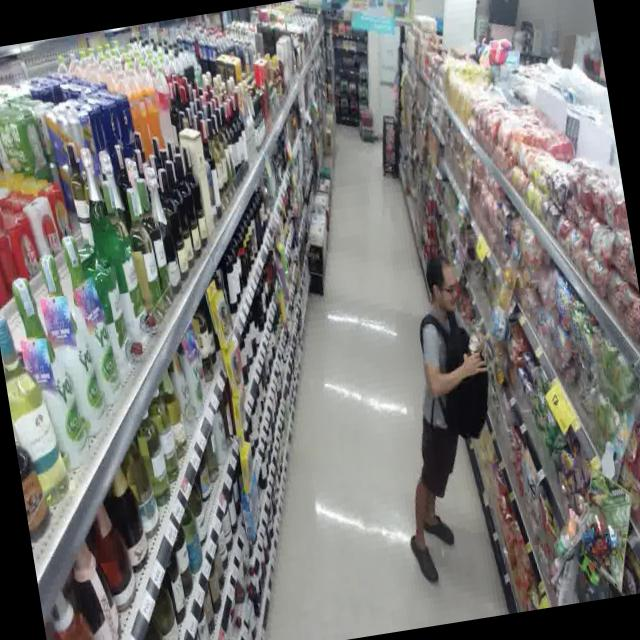shoplifting: (355, 227, 542, 596)
